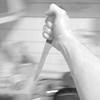melee: (33, 4, 64, 81)
